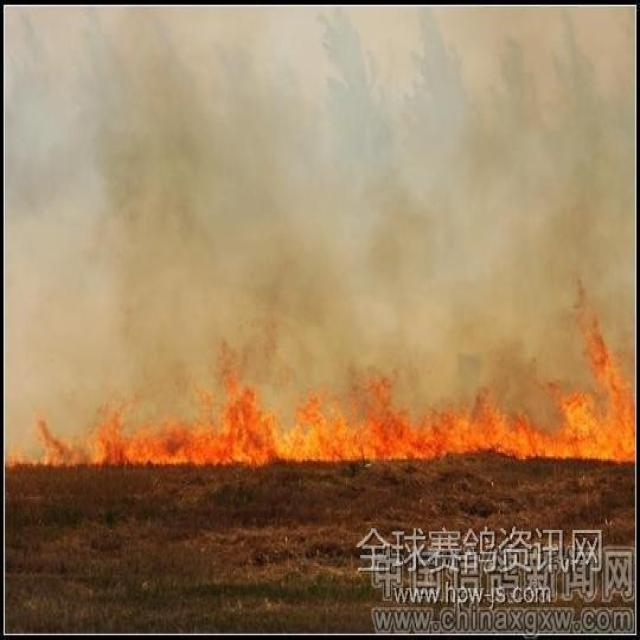fire: (24, 334, 633, 461)
